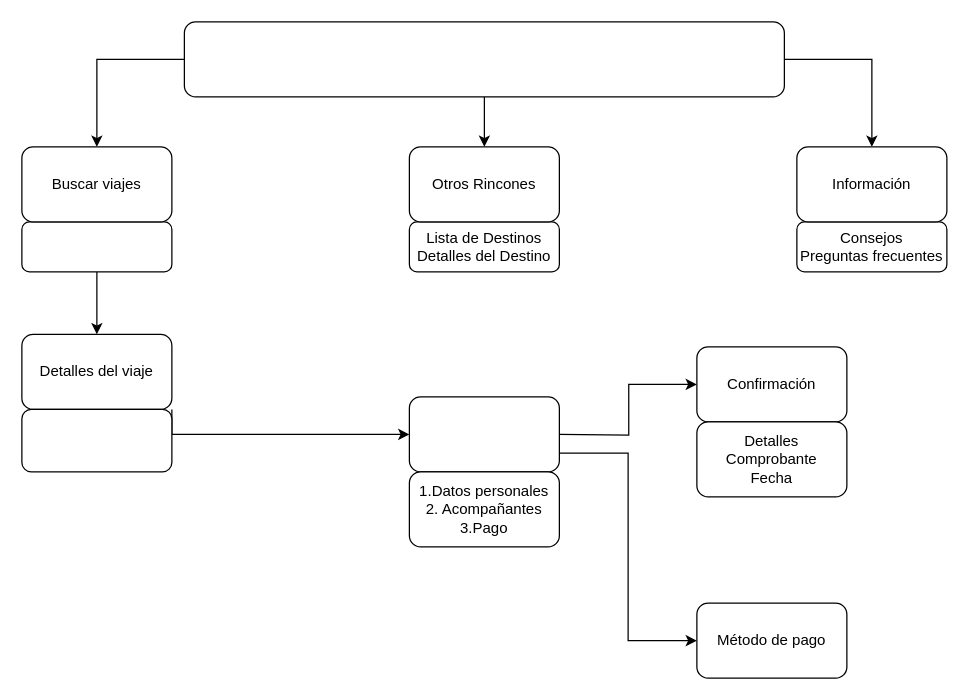
This 969x700 diagram has some shape labels left out. Each missing label, with the centre of its shape:
"Favorito Volver Reservar" goes at point (96, 440).
"Filtros Resultados" goes at point (96, 246).
"Home page Buscar Viajes Otros Rincones Mi perfil Información Configuración" goes at point (483, 59).
"Proceso de Reserva" goes at point (483, 434).
